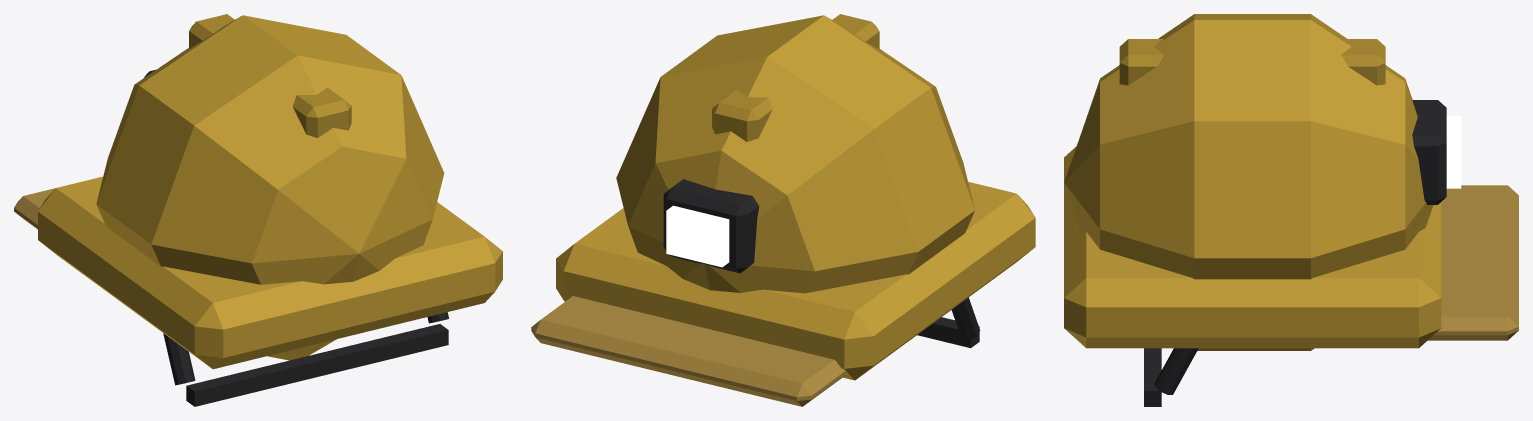
Rendered from Hardhat.glb.
3 renders of one model, left to right at view 1: azimuth 30°, elevation 25°; view 2: azimuth 150°, elevation 25°; view 3: azimuth 270°, elevation 25°, orthographic. The views are drawn at different scales.
Visible parts, largest first — view 1: Body; view 2: Body, Glow; view 3: Body, Glow.
Boxes of the visible parts, <box> form: Body: <box>14,14,502,406</box>; Body: <box>531,14,1035,406</box>; Glow: <box>666,205,729,267</box>; Body: <box>1064,14,1518,406</box>; Glow: <box>1446,116,1461,188</box>.
Bounding box in the file's own units: 1.7 × 1.62 × 2.05.
